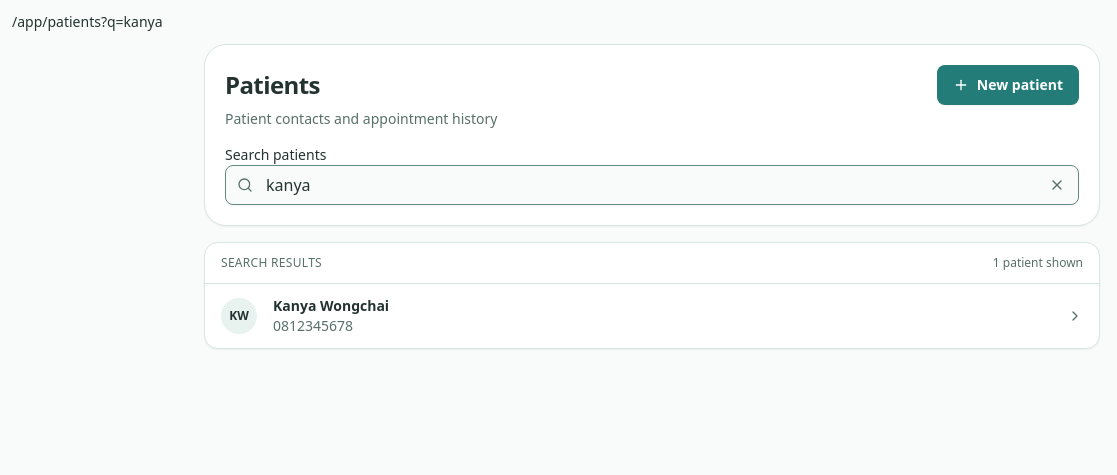
Test case: PatientsPage › labels filtered rows as search results and offers an immediate clear action
Expected: the heading "Search results" is shown, top-left (221, 255), bottom-right (322, 271)
Click the button named "Clear search" at (1057, 185), box top-left (1039, 167), bottom-right (1075, 203)
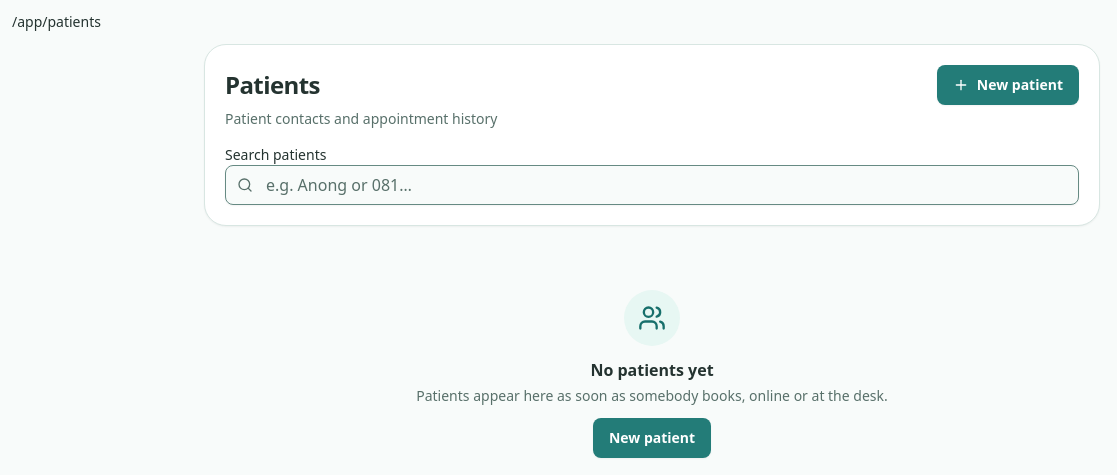
Expected: the text with test id "url" reads "/app/patients", top-left (12, 12), bottom-right (101, 31)
Expected: the search field labelled "Search patients" is empty, top-left (225, 165), bottom-right (1079, 205)
